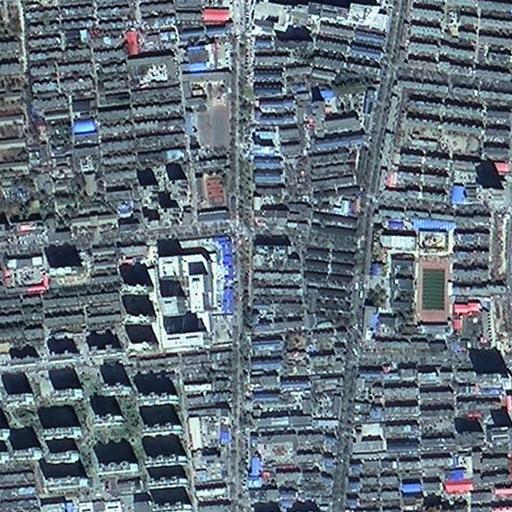school: (363, 214, 450, 338), (181, 69, 232, 154), (192, 160, 230, 224)
